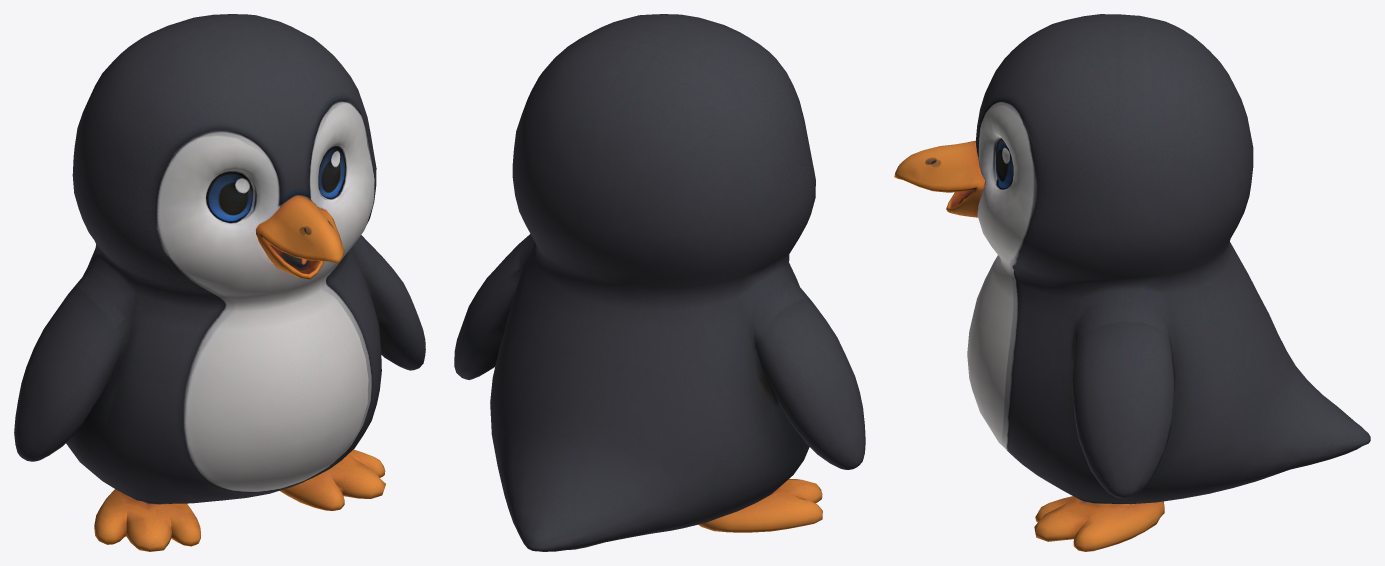
File: penguin_base.glb
3 renders of one model, left to right at view 1: azimuth 30°, elevation 25°; view 2: azimuth 150°, elevation 25°; view 3: azimuth 270°, elevation 25°, orthographic. The views are drawn at different scales.
Visible parts, largest first — view 1: PenguinBase; view 2: PenguinBase; view 3: PenguinBase.
Boxes of the visible parts, left/top/right/bottom form: PenguinBase: left=14, top=14, right=425, bottom=551; PenguinBase: left=454, top=14, right=865, bottom=551; PenguinBase: left=894, top=14, right=1370, bottom=551.
Size of the model in its own units: 0.8926 by 0.998 by 0.9434.
Materials: 1 (1 with a texture image).
